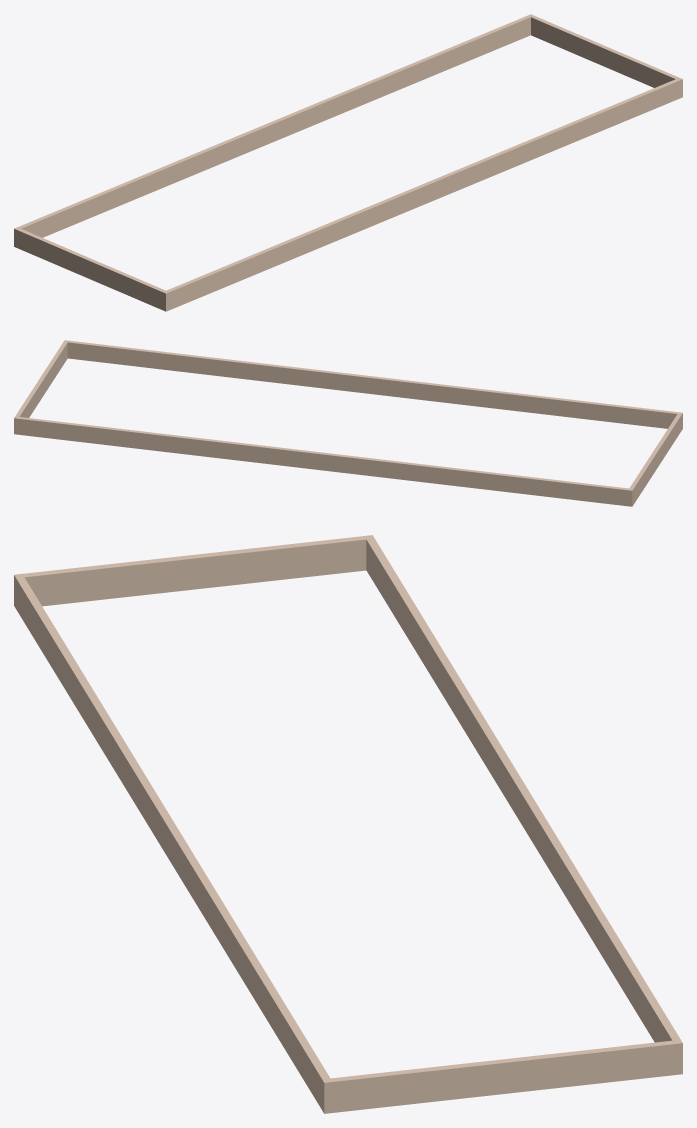
3 views of the same model, one above another, from view 1: azimuth 30°, elevation 25°; view 2: azimuth 150°, elevation 25°; view 3: azimuth 270°, elevation 25° (orthographic). The views are drawn at different scales.
Visible parts, largest first — view 1: SM_9251f688fec001d46ef1; view 2: SM_9251f688fec001d46ef1; view 3: SM_9251f688fec001d46ef1.
Part boxes in pixels (x1,y1,x2,y2): SM_9251f688fec001d46ef1: [14, 14, 682, 311]; SM_9251f688fec001d46ef1: [14, 340, 682, 506]; SM_9251f688fec001d46ef1: [14, 535, 682, 1113].
Bounding box in the file's own units: 27.08 × 13.98 × 0.715.
